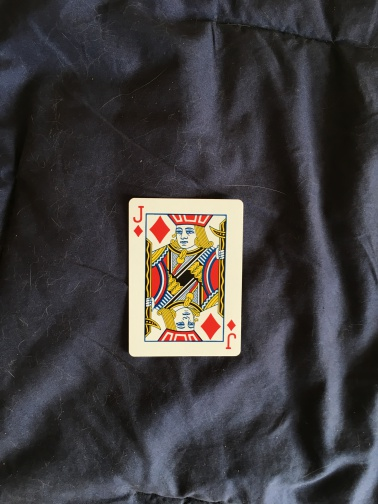jack: (128, 196, 243, 357)
